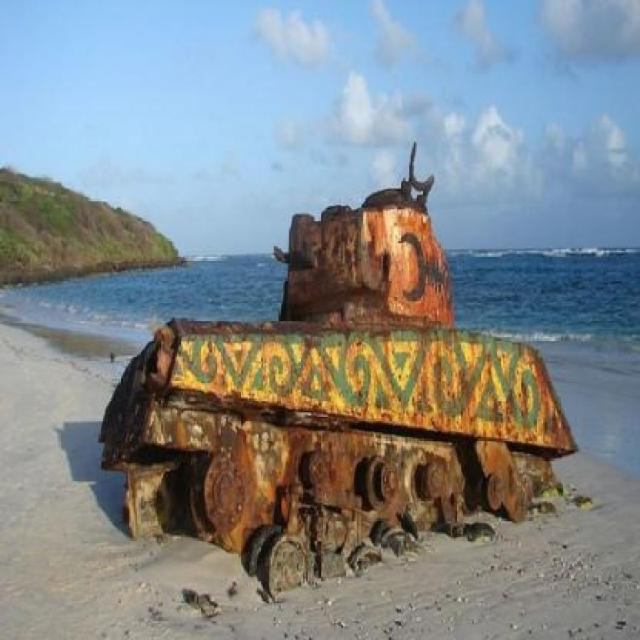corrosion: (101, 142, 582, 592)
